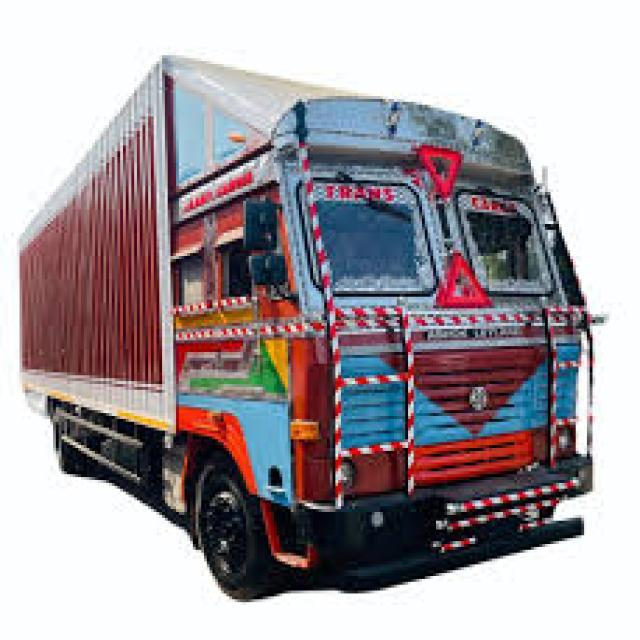covered: (11, 50, 607, 600)
